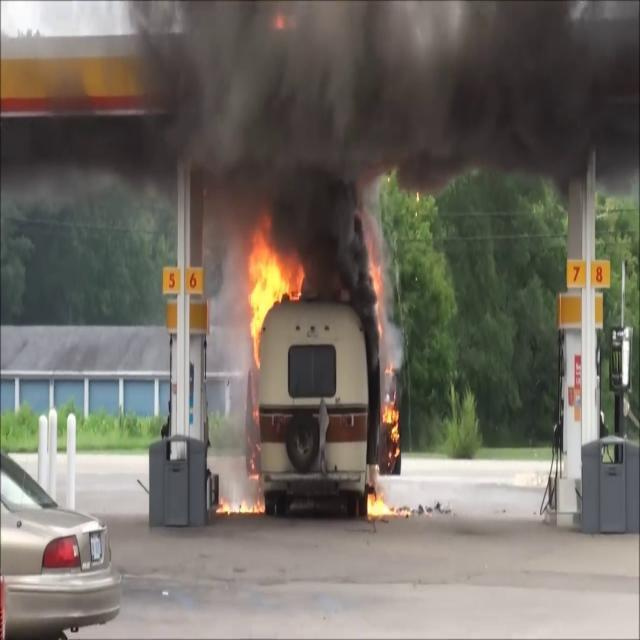Fire: (242, 227, 304, 353), (376, 364, 400, 458), (217, 483, 266, 521), (366, 483, 408, 522)
Smoke: (121, 1, 639, 255)
